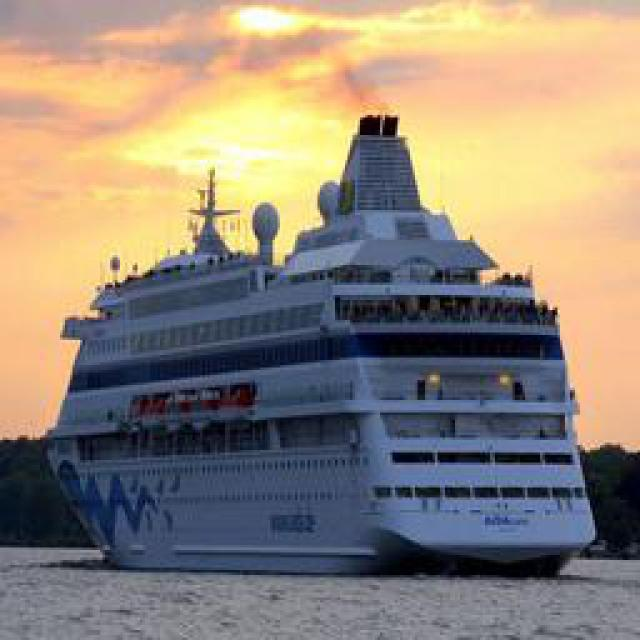Ship: (42, 90, 595, 575)
